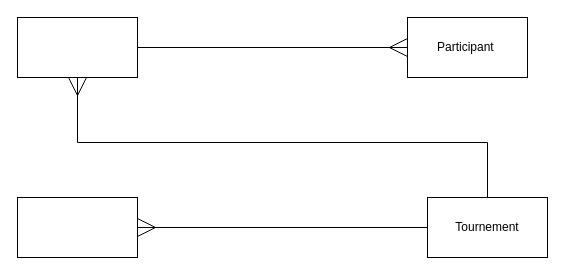
This 565x275 diagram has some shape labels left out. Here are the shapes that lost their labels. From the top down, the centre of each, then its label:
(x=77, y=47): Team
(x=77, y=227): Event
